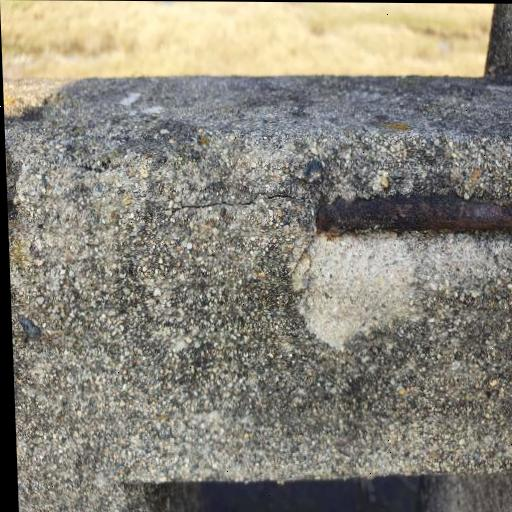exposed_rebar: (316, 193, 512, 233)
